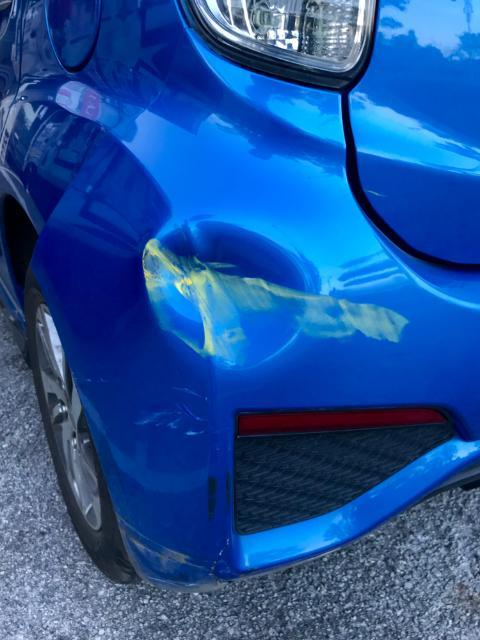crack: (211, 536, 236, 586)
dent: (147, 221, 312, 369)
scratch: (116, 516, 193, 574), (135, 385, 212, 437), (204, 471, 231, 523)
